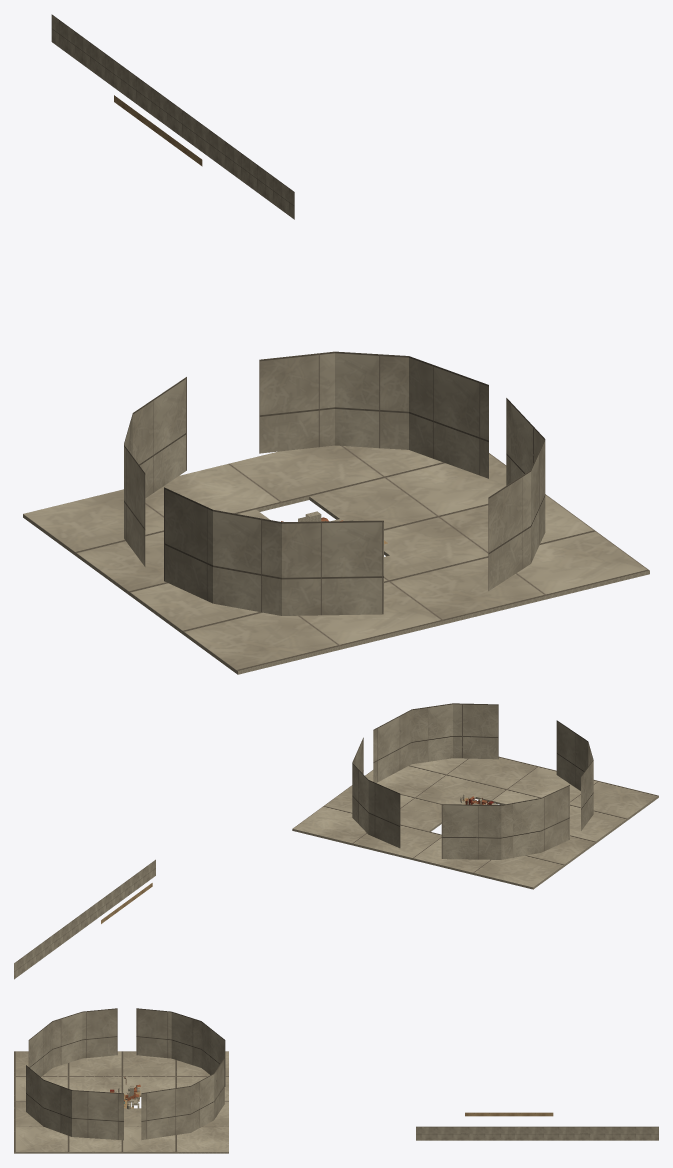
Rendered from ch5_mill_yard.glb.
3 views of the same model, one above another, from view 1: azimuth 30°, elevation 25°; view 2: azimuth 150°, elevation 25°; view 3: azimuth 270°, elevation 25° (orthographic). The views are drawn at different scales.
Parts seen in each view (by area): view 1: concrete_source; view 2: concrete_source; view 3: concrete_source, earth_source.
Part boxes in pixels (x1,y1,x2,y2): concrete_source: (23, 14, 649, 674); concrete_source: (14, 703, 658, 979); concrete_source: (14, 1008, 658, 1153); earth_source: (124, 1091, 553, 1116).
Size of the model in its own units: 883 by 196 by 2150.
8 materials, 8 textured.
